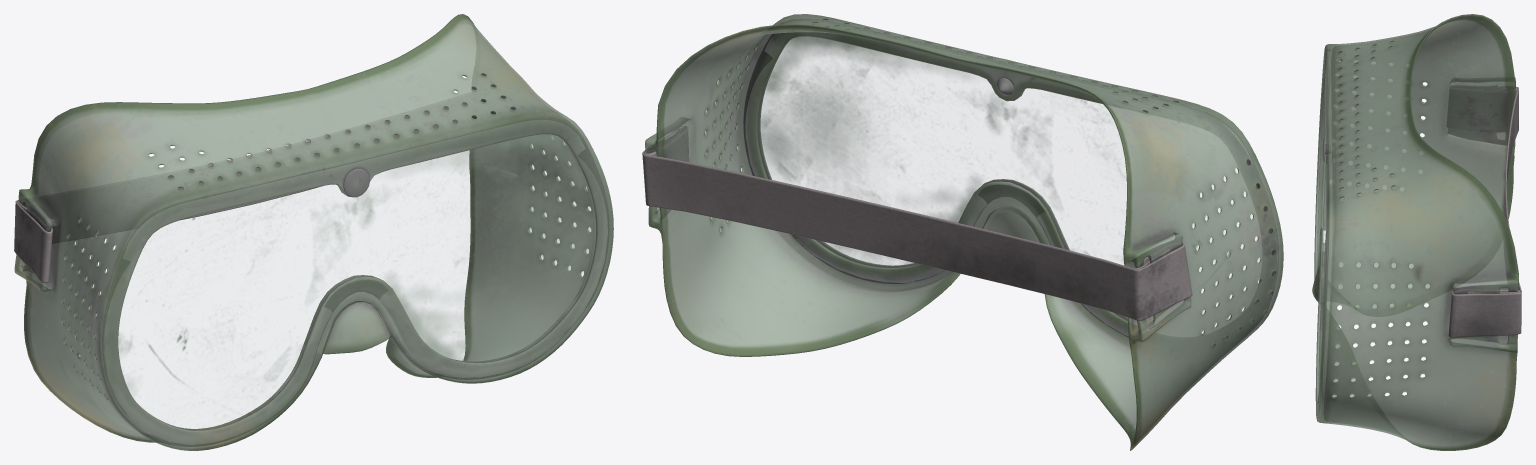
Rendered from eye_protection_glasses.glb.
3 views of the same model, side by side, from view 1: azimuth 30°, elevation 25°; view 2: azimuth 150°, elevation 25°; view 3: azimuth 270°, elevation 25° (orthographic). The views are drawn at different scales.
Visible parts, largest first — view 1: Object_4, Object_2, Object_5, Object_3; view 2: Object_4, Object_5, Object_2, Object_3; view 3: Object_4, Object_5, Object_3, Object_2.
Part boxes in pixels (x1,y1,x2,y2): Object_4: [15, 14, 613, 450]; Object_2: [26, 134, 595, 428]; Object_5: [14, 73, 608, 445]; Object_3: [14, 74, 597, 431]; Object_4: [645, 14, 1283, 450]; Object_5: [642, 18, 1278, 348]; Object_2: [683, 33, 1259, 325]; Object_3: [642, 18, 1275, 346]; Object_4: [1313, 14, 1518, 450]; Object_5: [1312, 41, 1521, 413]; Object_3: [1313, 40, 1521, 402]; Object_2: [1319, 64, 1517, 400].
Size of the model in its own units: 15.05 by 9.16 by 6.01.
Materials: 1 (1 with a texture image).
